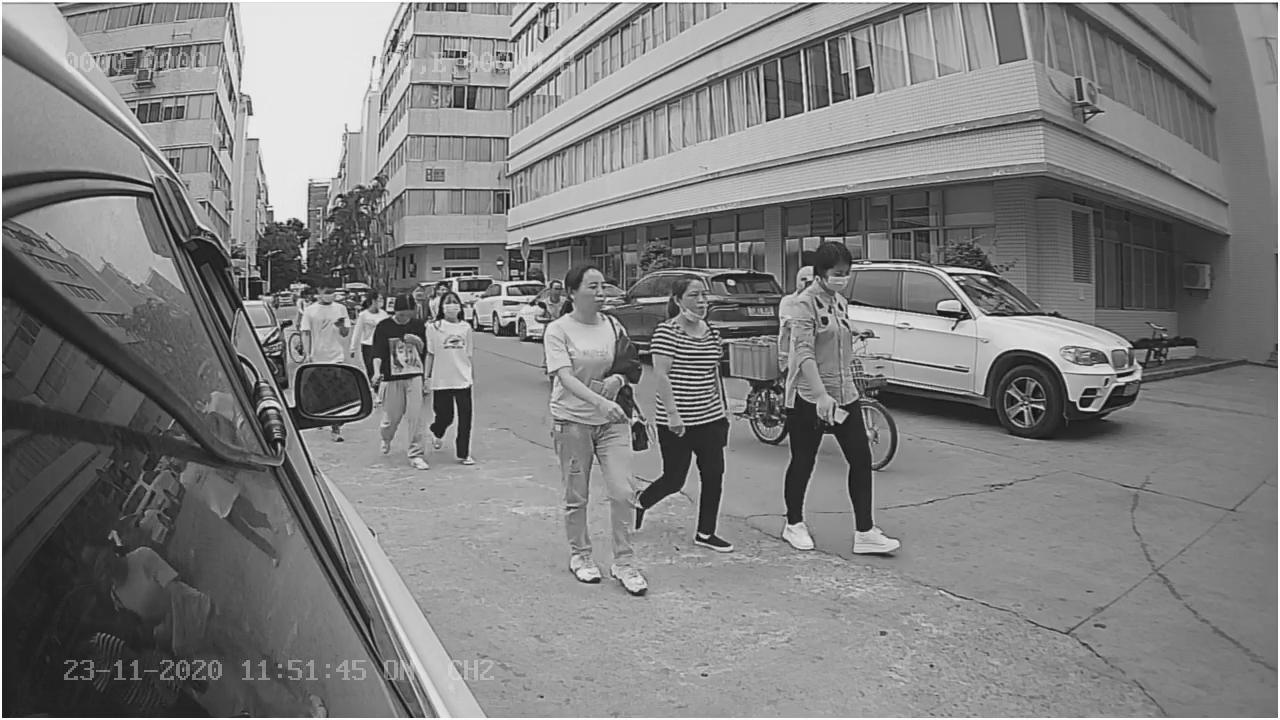person: (782, 238, 901, 556), (542, 262, 655, 593), (421, 280, 500, 472)
